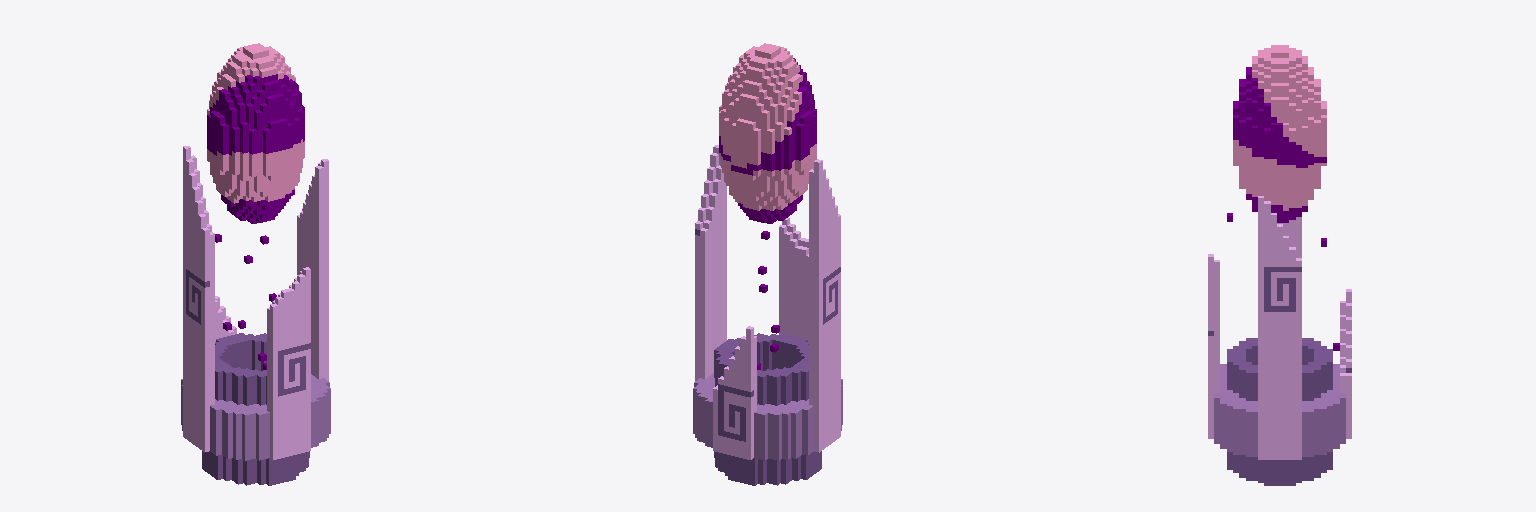
3 views of the same model, side by side, from view 1: azimuth 30°, elevation 25°; view 2: azimuth 150°, elevation 25°; view 3: azimuth 270°, elevation 25° (orthographic).
Visible parts, largest first — view 1: object 1; view 2: object 1; view 3: object 1.
Boxes of the visible parts, x1,y1,x2,y2 form: object 1: [181, 43, 330, 485]; object 1: [693, 43, 842, 485]; object 1: [1208, 45, 1351, 485].
Size of the model in its own units: 2.3 by 7.3 by 2.3.
1 materials, 1 textured.